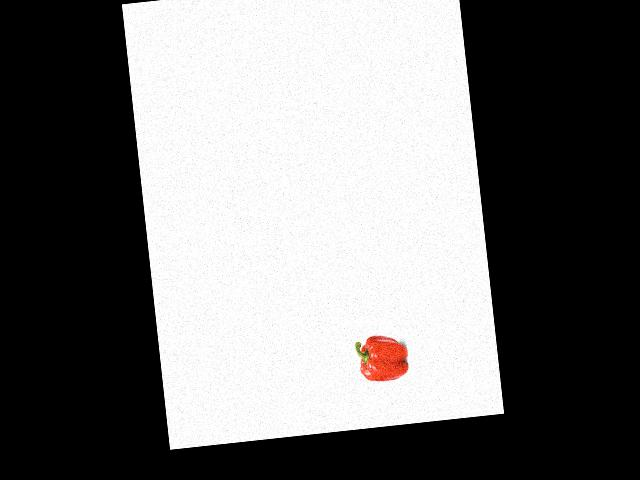bell_pepper: (353, 331, 411, 385)
